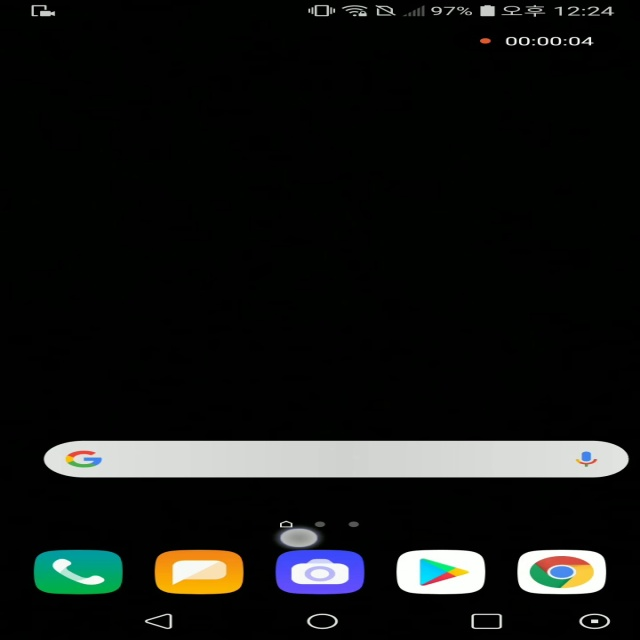Cursor: (279, 528, 323, 550)
